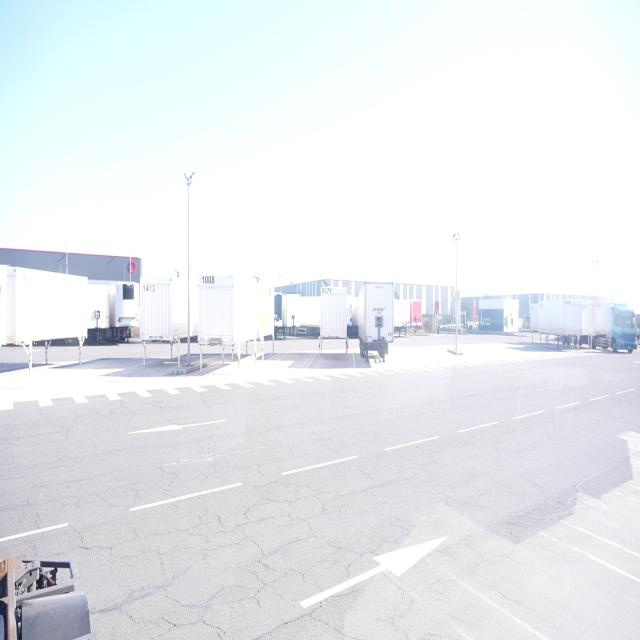Code: (138, 280, 161, 297), (200, 274, 218, 292), (319, 284, 336, 298)
